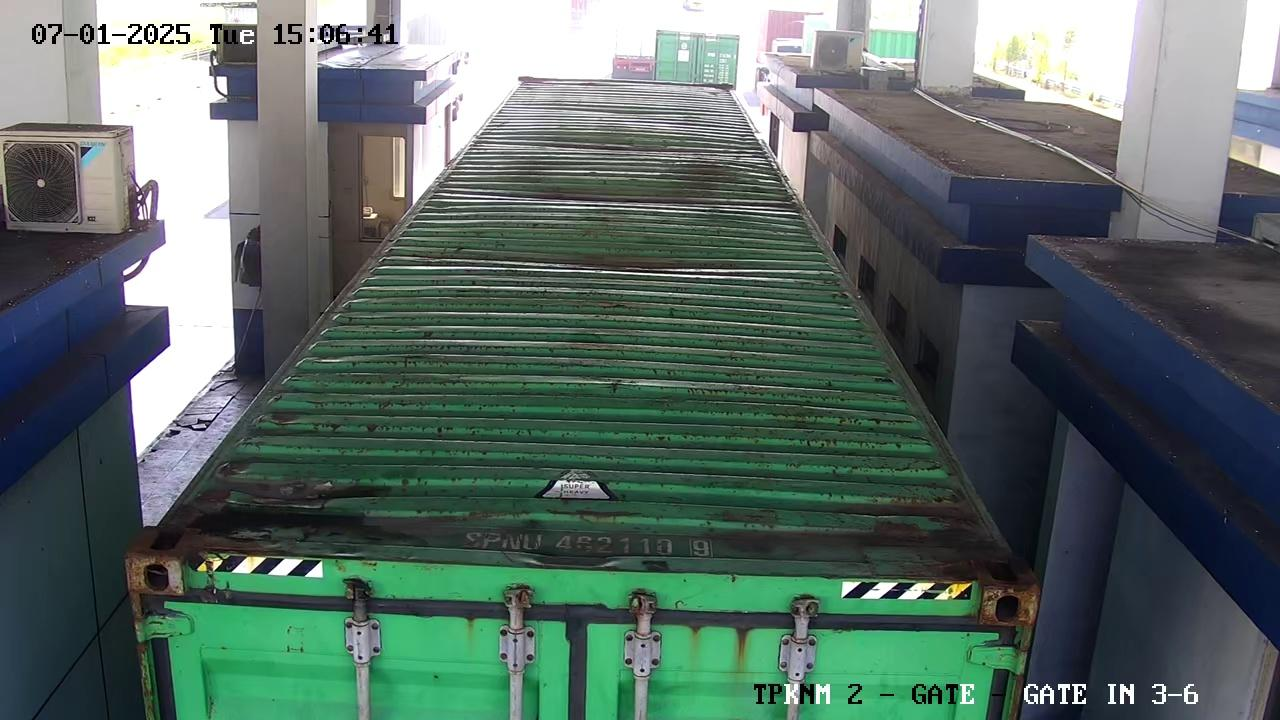Container_ID: (439, 518, 732, 589)
